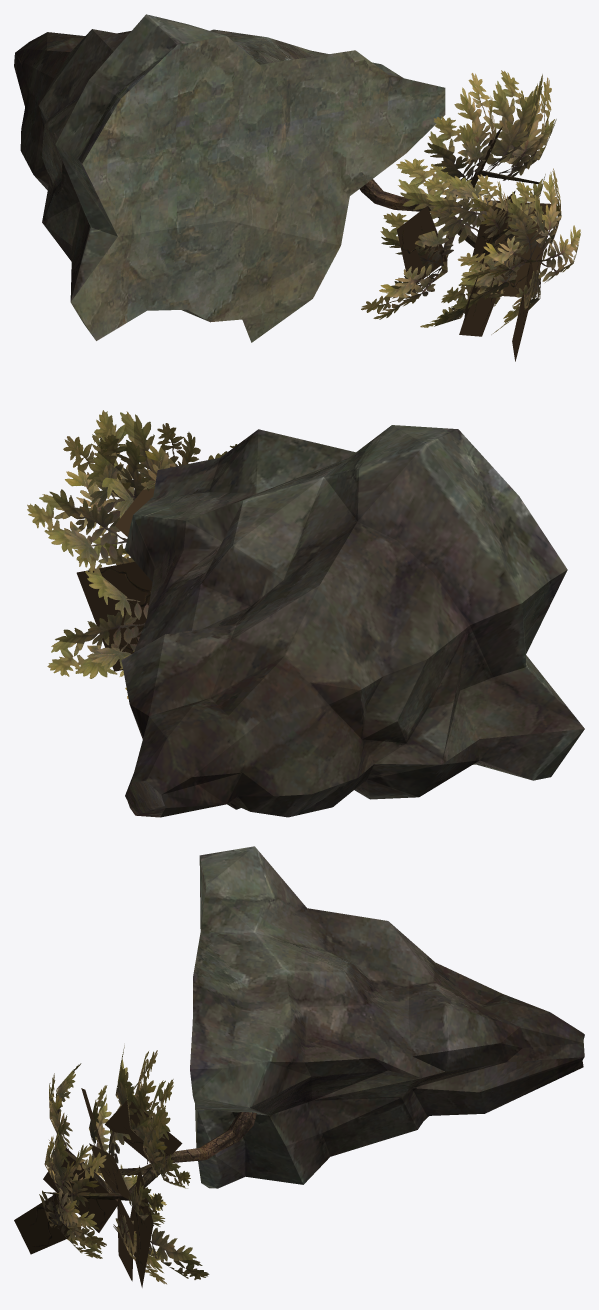
File: dongfang_yewai_358_fudao01b.obj
3 views of the same model, one above another, from view 1: azimuth 30°, elevation 25°; view 2: azimuth 150°, elevation 25°; view 3: azimuth 270°, elevation 25° (orthographic). The views are drawn at different scales.
Parts seen in each view (by area): view 1: dongfang_yewai_358_fudao01b; view 2: dongfang_yewai_358_fudao01b; view 3: dongfang_yewai_358_fudao01b.
Part boxes in pixels (x1,y1,x2,y2): dongfang_yewai_358_fudao01b: (14,14,580,361); dongfang_yewai_358_fudao01b: (27,410,584,817); dongfang_yewai_358_fudao01b: (14,846,584,1287).
Bounding box in the file's own units: 370 × 251 × 408.
Materials: 5 (5 with a texture image).
